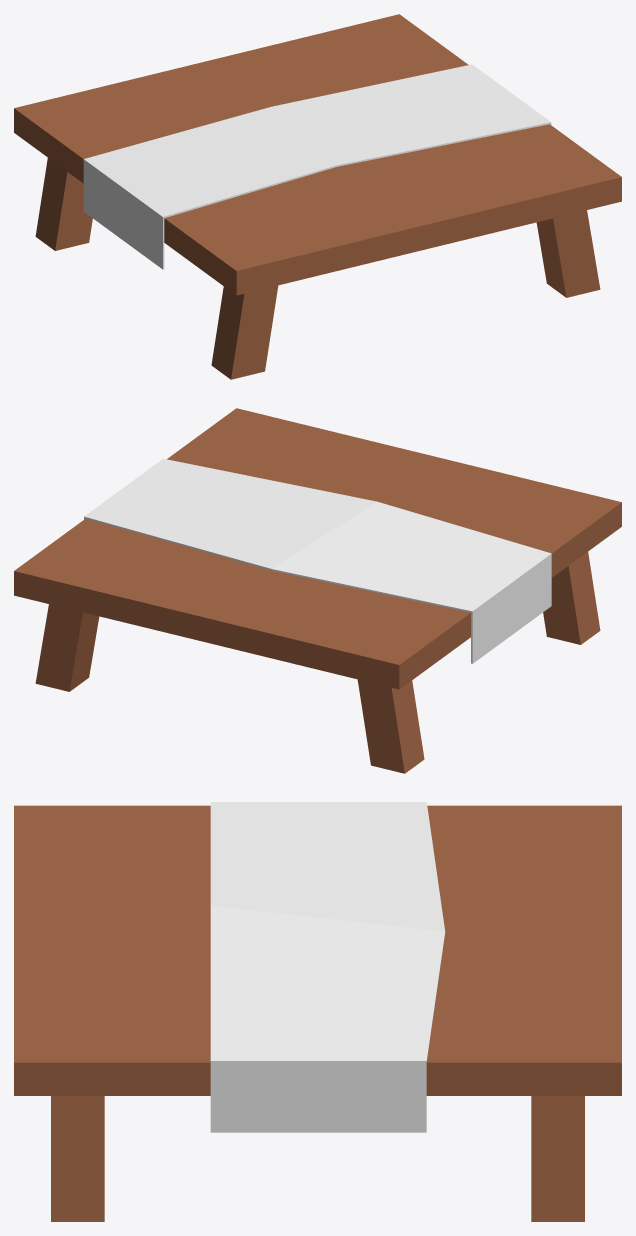
The model's file is table_cloth.obj.
3 renders of one model, top to bottom at view 1: azimuth 30°, elevation 25°; view 2: azimuth 150°, elevation 25°; view 3: azimuth 270°, elevation 25°, orthographic. The views are drawn at different scales.
Parts seen in each view (by area): view 1: table_cloth; view 2: table_cloth; view 3: table_cloth.
Boxes of the visible parts, x1,y1,x2,y2 form: table_cloth: (14,14,621,379); table_cloth: (14,408,621,773); table_cloth: (14,802,621,1221).
Bounding box in the file's own units: 1.01 × 0.3265 × 1.
